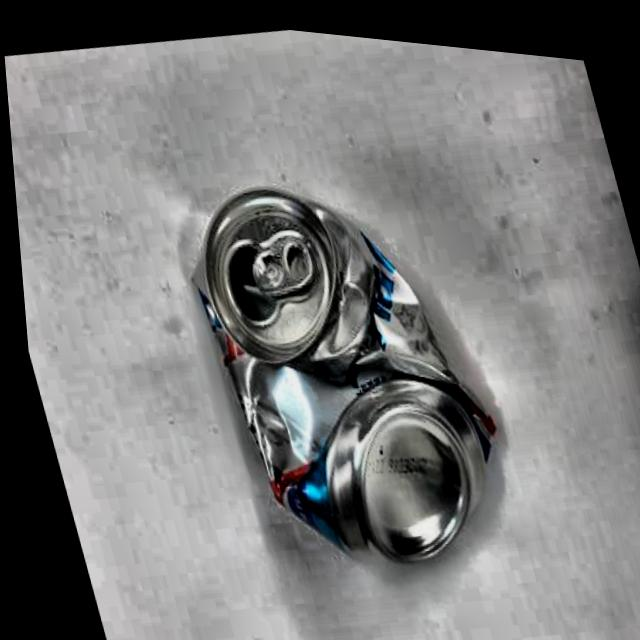Cans: (135, 112, 552, 626)
